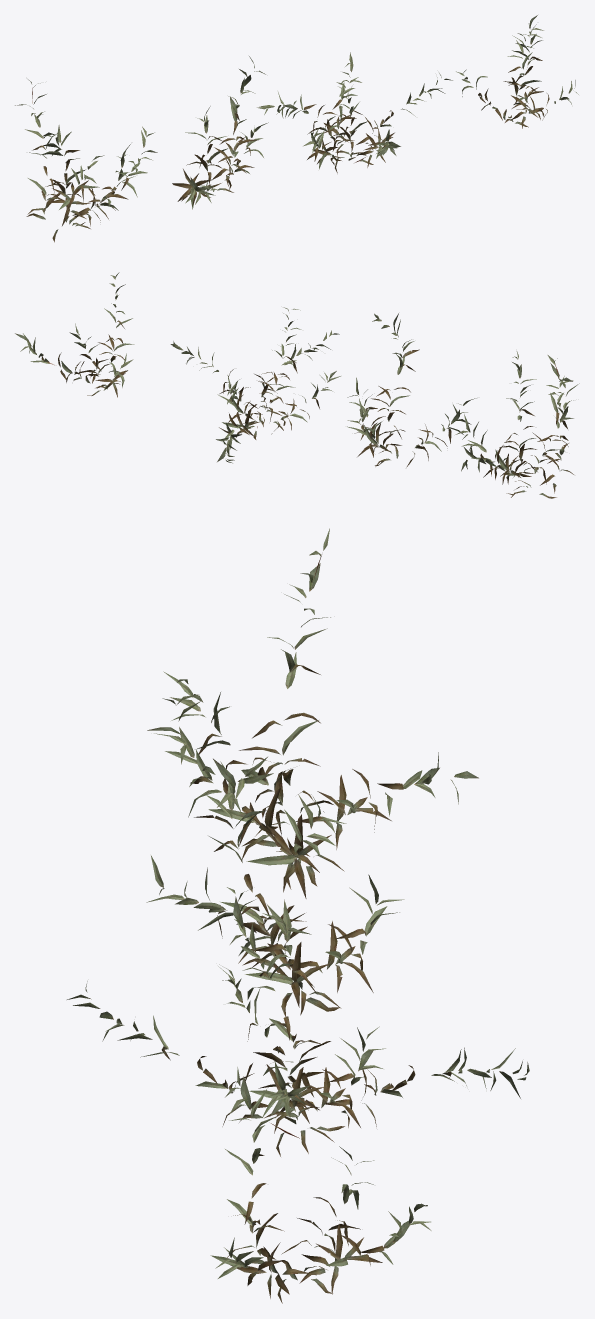
Rendered from shrub_02.glb.
The picture shows the model from 3 angles, top to bottom: view 1: azimuth 30°, elevation 25°; view 2: azimuth 150°, elevation 25°; view 3: azimuth 270°, elevation 25°; orthographic projection. The views are drawn at different scales.
Visible parts, largest first — view 1: shrub_02_c, shrub_02_a, shrub_02_b, shrub_02_d; view 2: shrub_02_a, shrub_02_c, shrub_02_b, shrub_02_d; view 3: shrub_02_a, shrub_02_c, shrub_02_b, shrub_02_d.
Boxes of the visible parts, x1,y1,x2,y2 form: shrub_02_c: (257,52,452,173); shrub_02_a: (15,79,157,242); shrub_02_b: (172,56,268,209); shrub_02_d: (456,15,578,128); shrub_02_a: (455,351,579,498); shrub_02_c: (170,307,340,463); shrub_02_b: (347,313,476,467); shrub_02_d: (15,272,134,397); shrub_02_a: (147,528,478,898); shrub_02_c: (67,887,529,1156); shrub_02_b: (146,757,404,1016); shrub_02_d: (210,1067,431,1303).
Size of the model in its own units: 6.05 by 1.7 by 2.28.
Materials: 1 (1 with a texture image).
